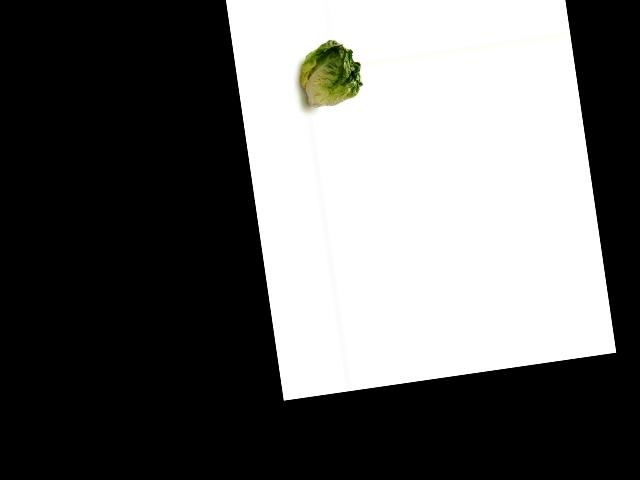lettuce: (296, 32, 368, 113)
